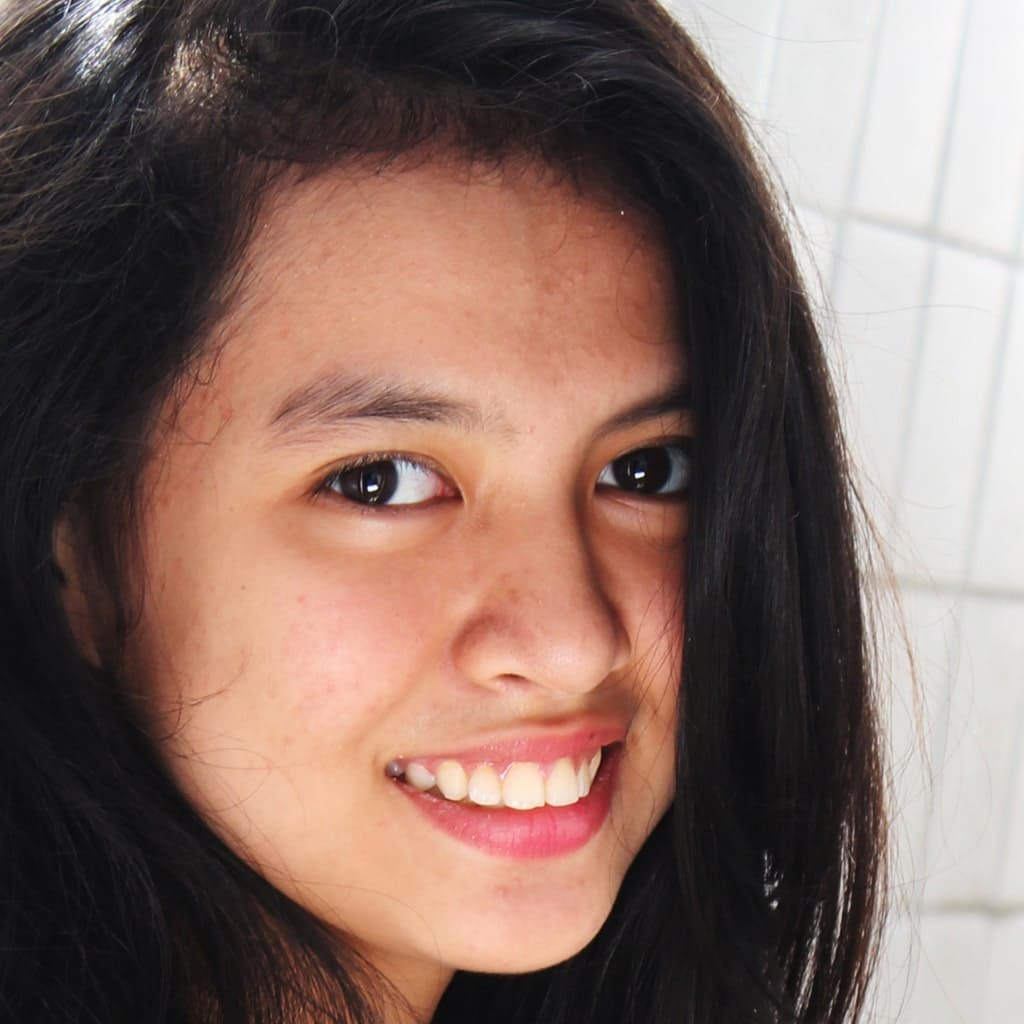without_mask: (240, 217, 711, 926)
